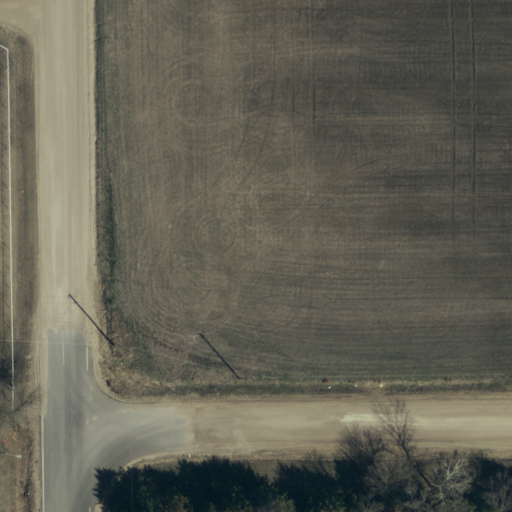DT: (233, 369, 256, 391), (103, 336, 126, 356)
